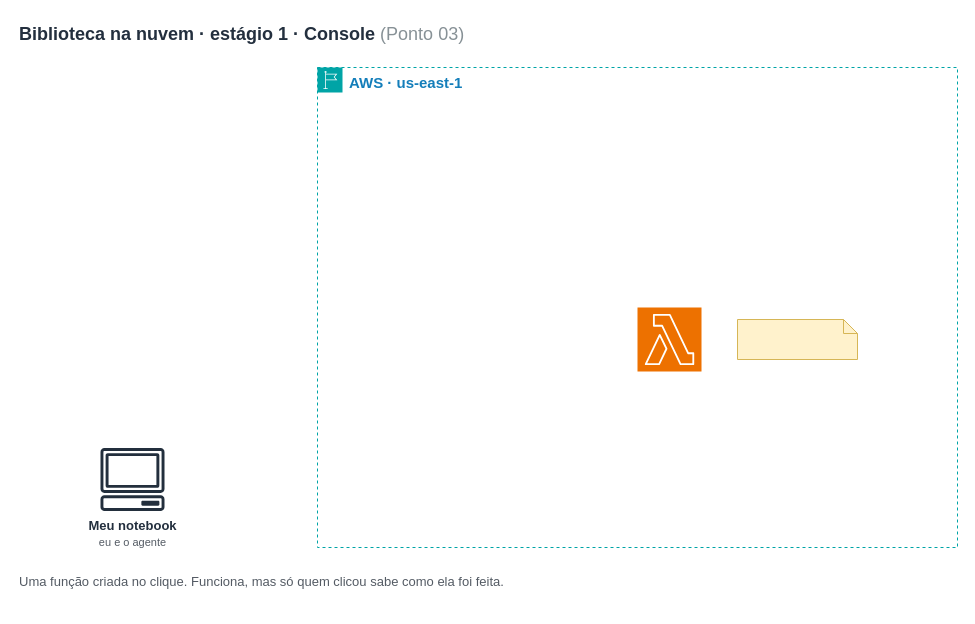
Image size: 975x624. Some labels were removed from this diagram. The box of each missing label's shape, as (x1, y1, x2, y2) in pixels:
criada clicando: (736, 318, 858, 360)
λ ola-console Python: (636, 306, 702, 372)
